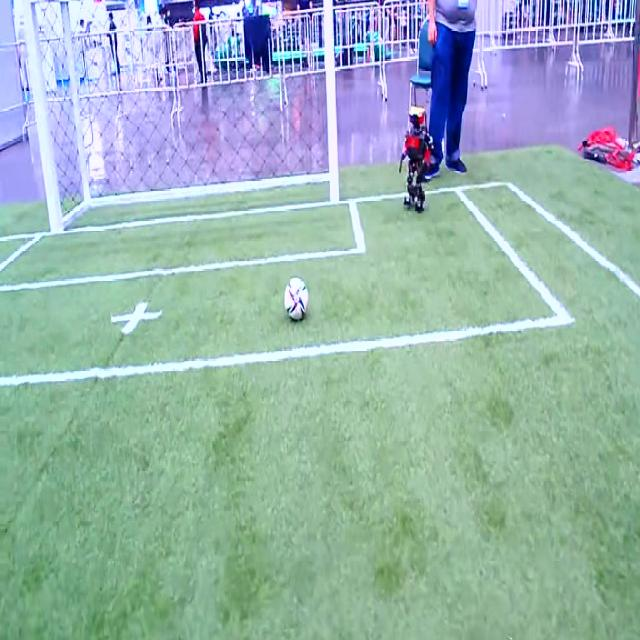ball: (284, 277, 308, 319)
